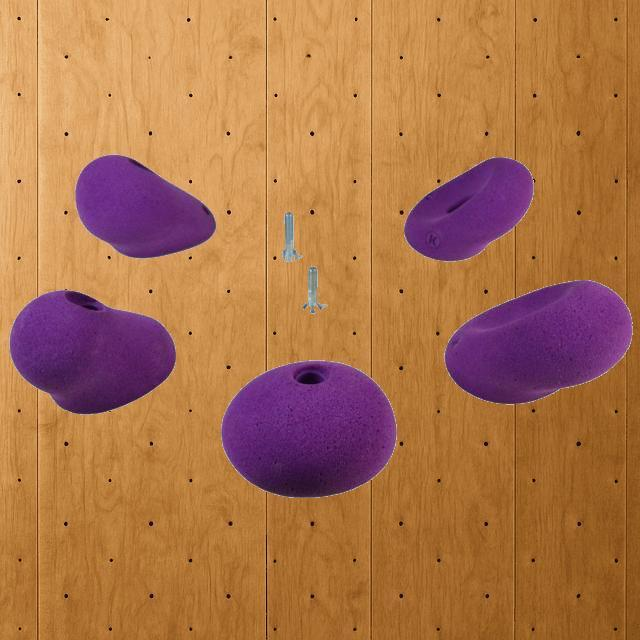Jug: (220, 358, 396, 498), (443, 278, 632, 404), (8, 288, 176, 414), (74, 154, 216, 258), (403, 155, 533, 261)
